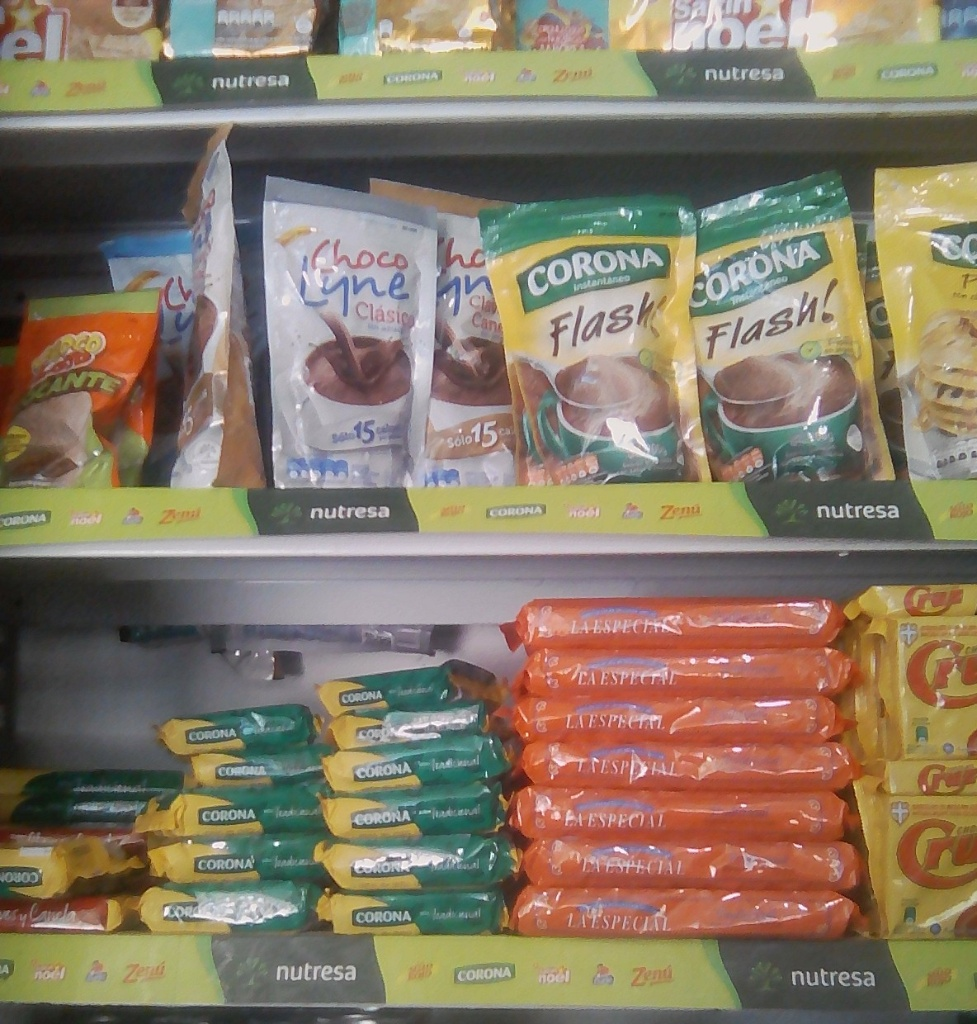COL0170102DYP10000: (11, 291, 164, 498)
